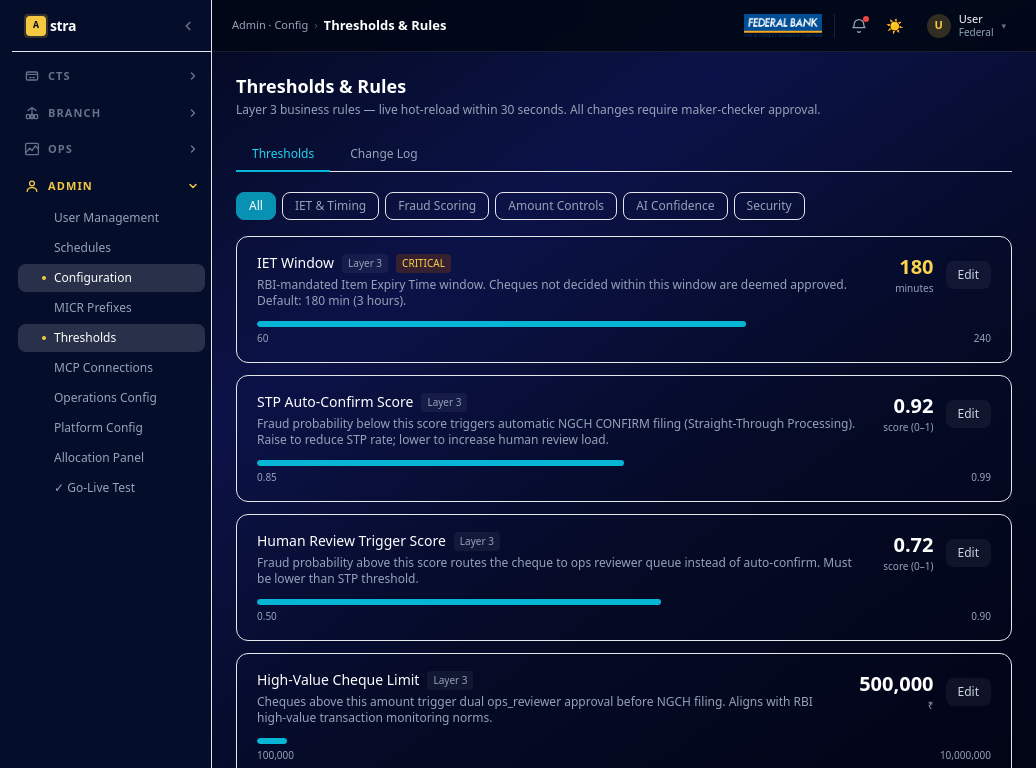
it: CTSThresholds › change log tab shows history
The image size is (1036, 768).
Click the button "Change Log" at [384, 155], box [334,138,434,172]
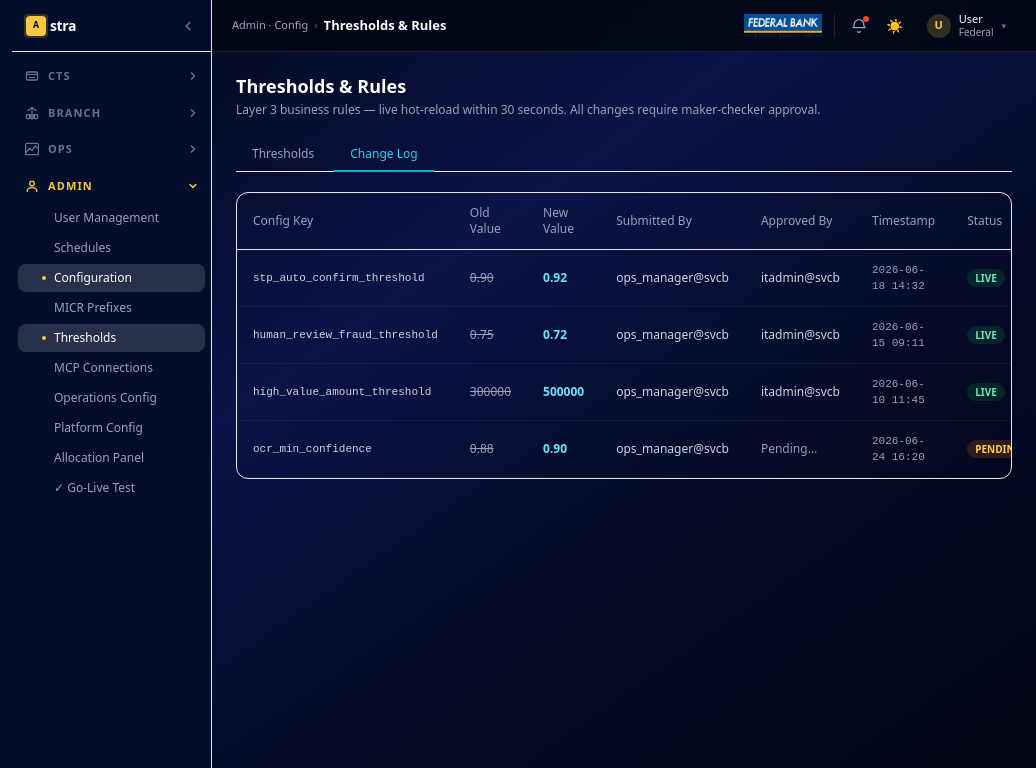
Now the text "PENDING" is shown, box [967,440,1012,458]
